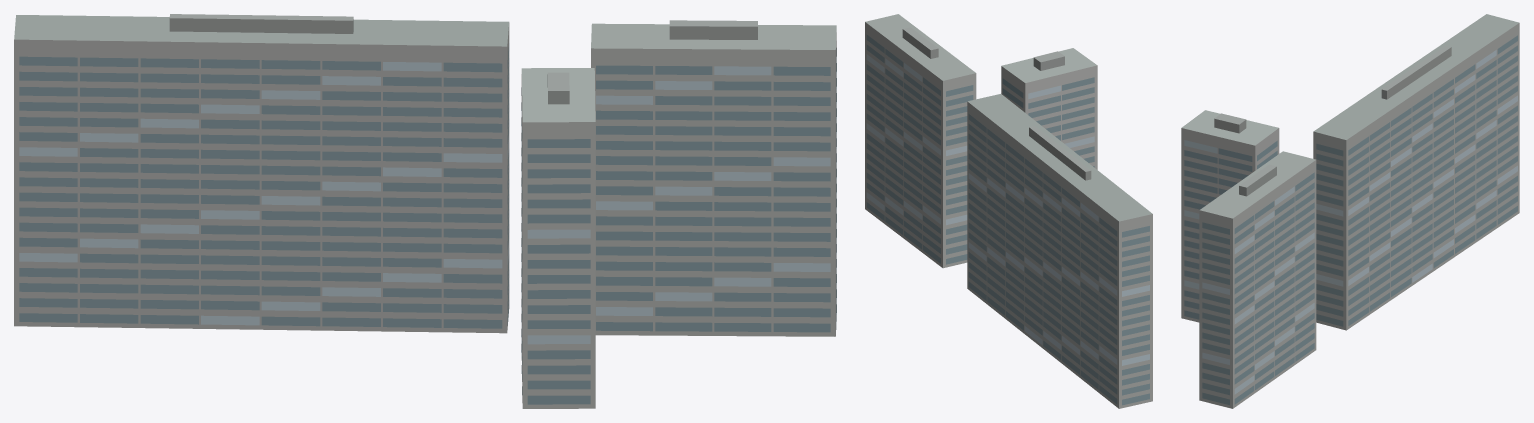
File: apt-a12187703.glb
3 views of the same model, side by side, from view 1: azimuth 30°, elevation 25°; view 2: azimuth 150°, elevation 25°; view 3: azimuth 270°, elevation 25° (orthographic). The views are drawn at different scales.
Visible parts, largest first — view 1: apt-a12187703; view 2: apt-a12187703; view 3: apt-a12187703.
Boxes of the visible parts, left/top/right/bottom form: apt-a12187703: left=14, top=14, right=836, bottom=408; apt-a12187703: left=865, top=14, right=1152, bottom=408; apt-a12187703: left=1181, top=14, right=1519, bottom=408.
Size of the model in its own units: 119 by 54 by 83.12.
